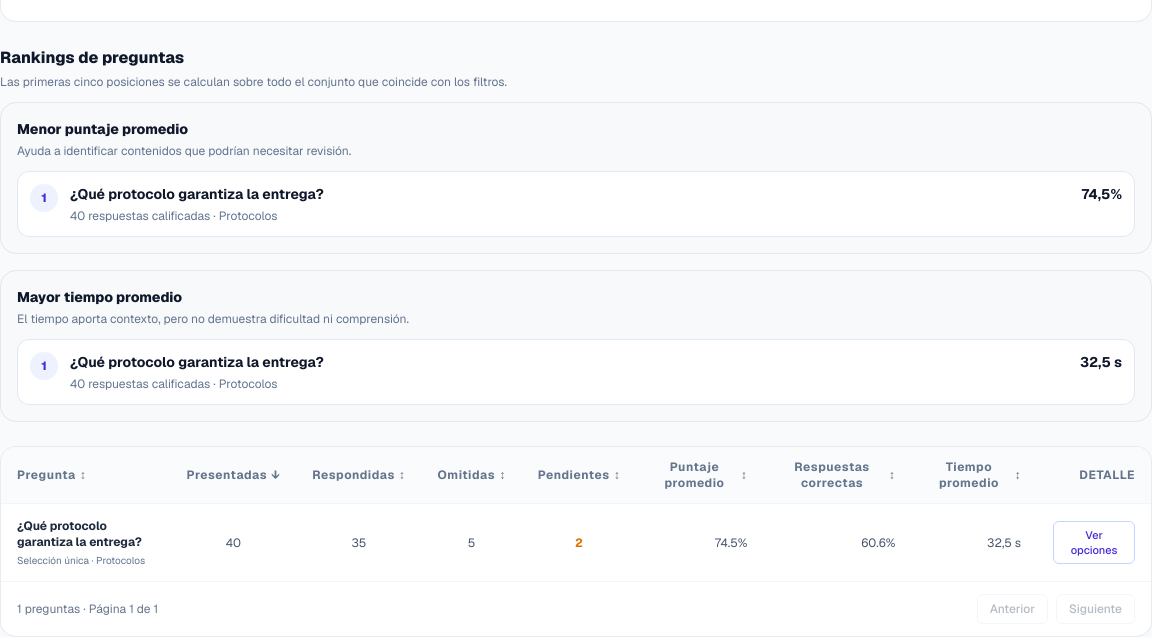
Test case: reportes docentes › mantiene QUESTION_CONTENT_NOT_FOUND dentro del panel de opciones
(page scrolled)
Click the button "Ver opciones" at (1094, 543), box [1053,521,1135,564]
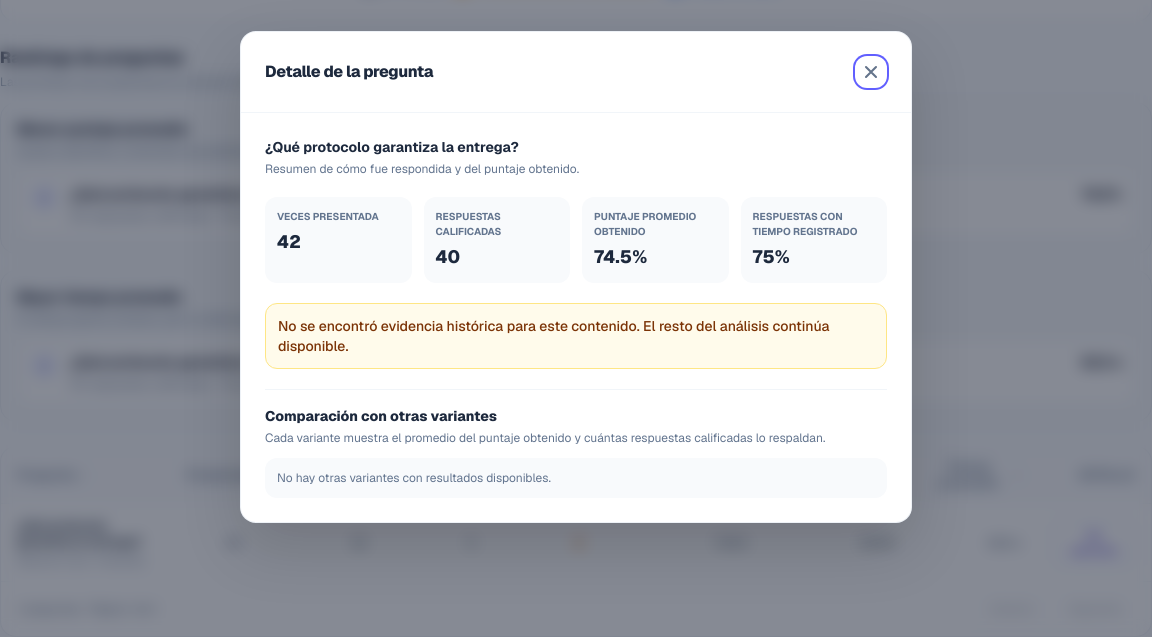
Check: the text "No se encontró evidencia histórica para este contenido" is shown, box [278,317,830,355]
